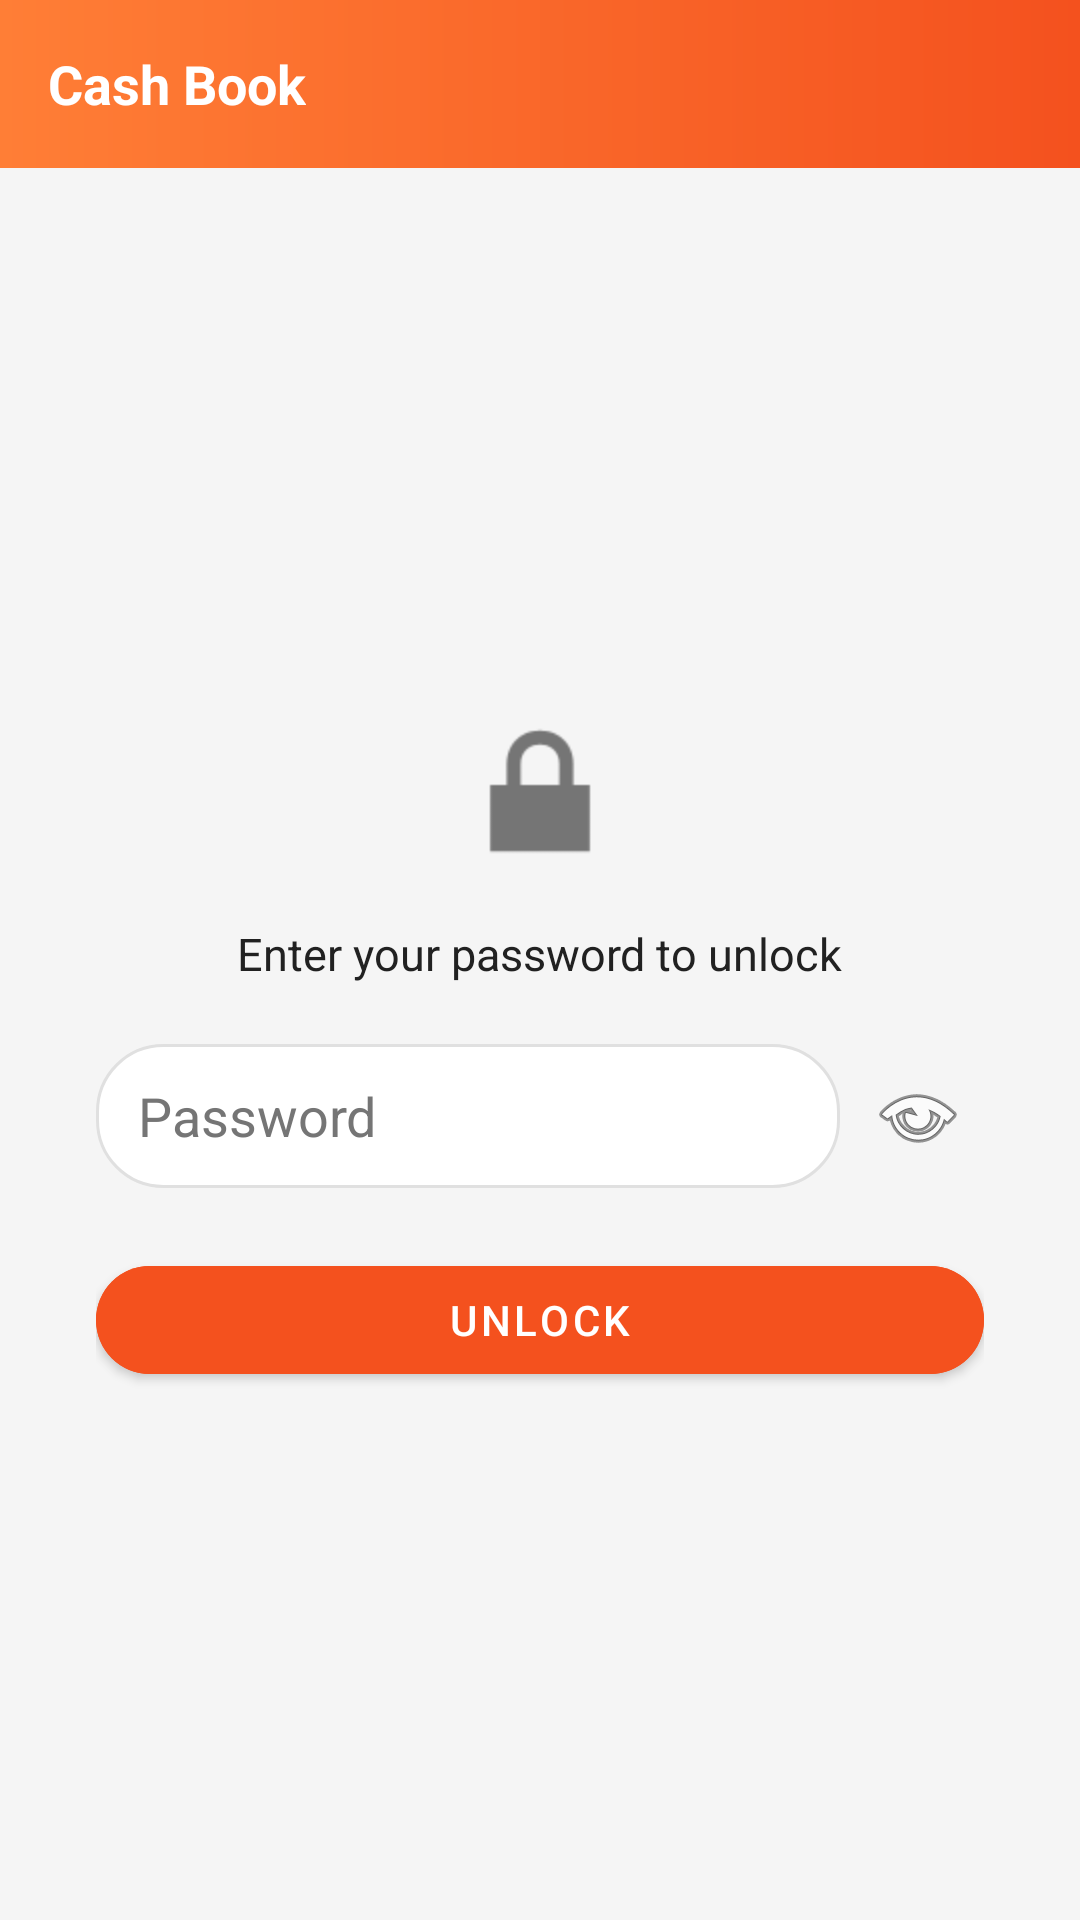

Named icons in this screenshot (1080px x 1920px) and their bounding boxes, (x1, y1, x2, y2):
view: (879, 1094, 957, 1143)
